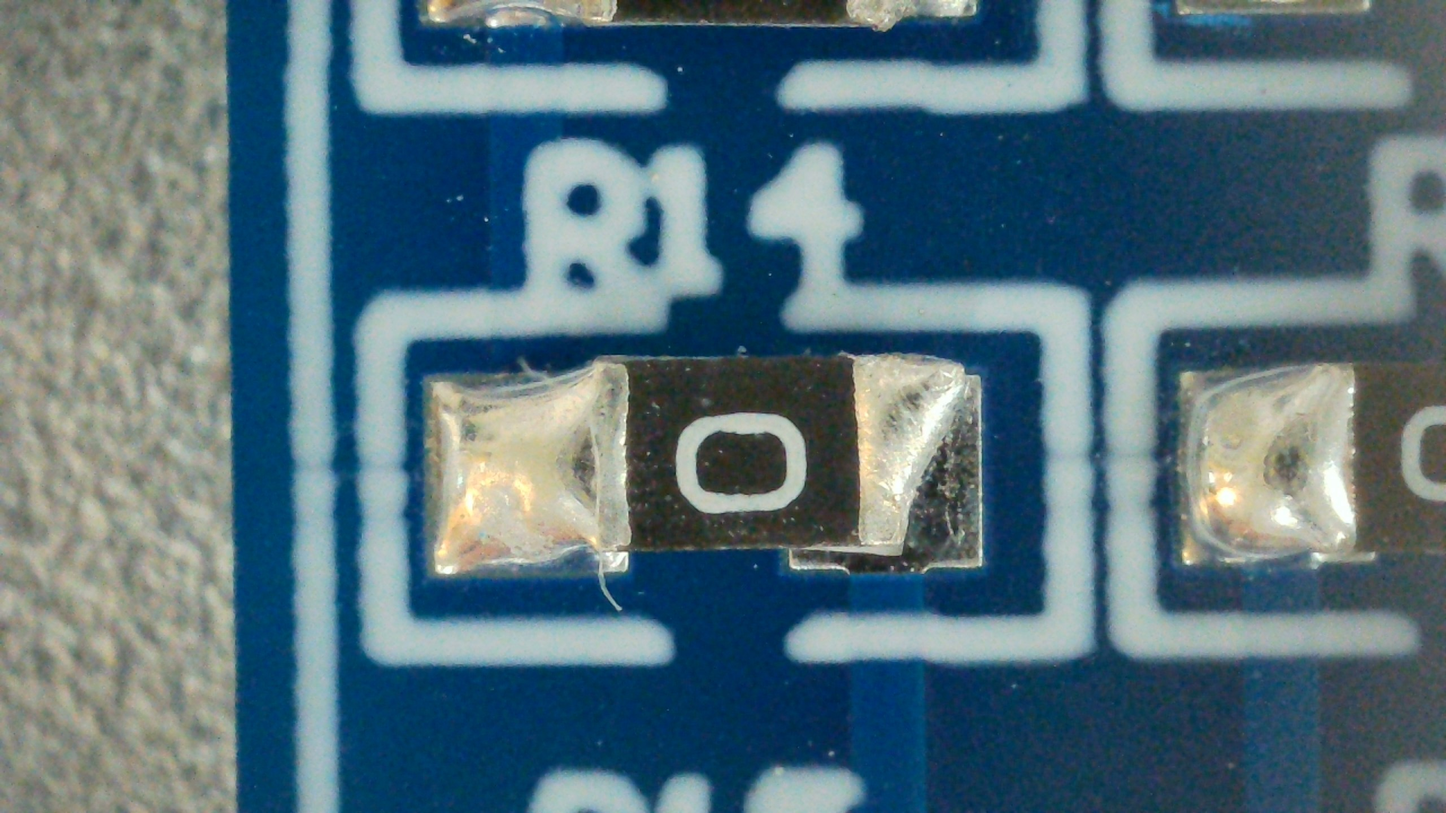NG: (432, 352, 983, 577)
